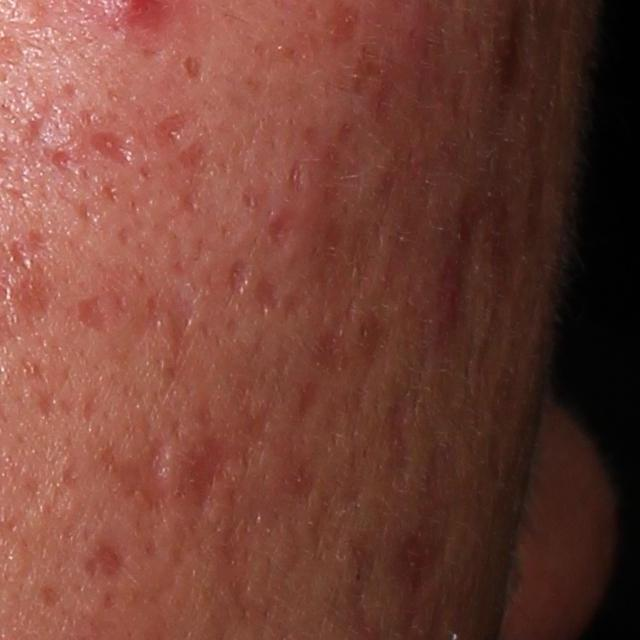atrophic_scar: (101, 431, 175, 516), (174, 433, 239, 521), (22, 83, 82, 177), (383, 383, 424, 495), (74, 287, 128, 335), (147, 105, 197, 156), (88, 128, 142, 173), (235, 399, 271, 466), (84, 537, 129, 581), (164, 299, 194, 359), (264, 203, 300, 248), (226, 252, 253, 298), (284, 160, 307, 196)
